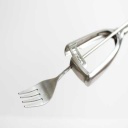fork: (20, 33, 121, 105)
